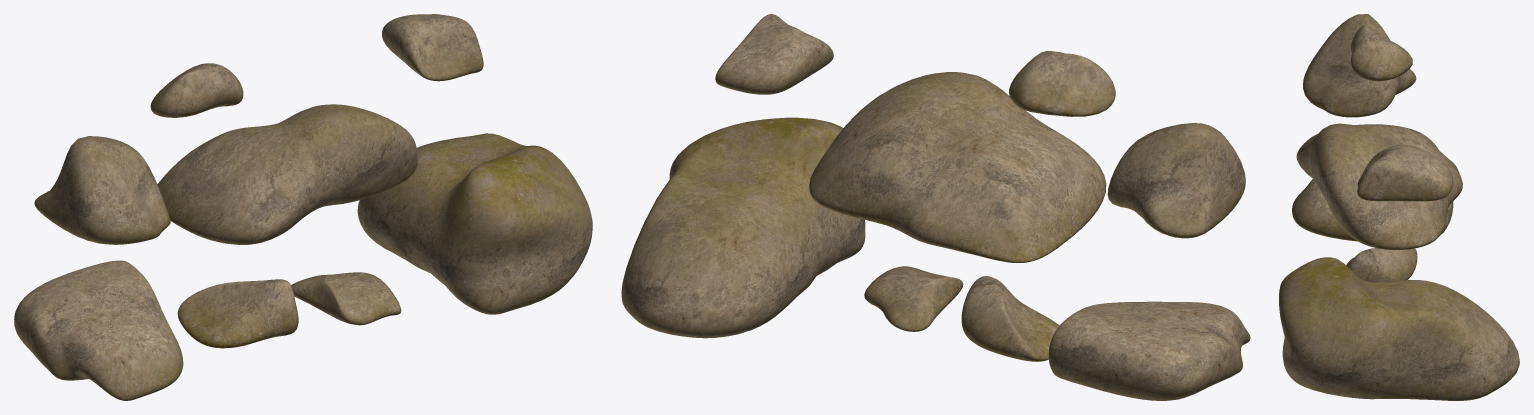
The picture shows the model from 3 angles, left to right: view 1: azimuth 30°, elevation 25°; view 2: azimuth 150°, elevation 25°; view 3: azimuth 270°, elevation 25°; orthographic projection. The views are drawn at different scales.
Parts seen in each view (by area): view 1: Rock.006_5, Rock.007_6, Rock.005_4, Rock_7, Rock.001_0, Rock.004_3, Rock.003_2, Rock.002_1; view 2: Rock.007_6, Rock.006_5, Rock.005_4, Rock_7, Rock.004_3, Rock.002_1, Rock.001_0, Rock.003_2; view 3: Rock.006_5, Rock.007_6, Rock_7, Rock.004_3, Rock.002_1, Rock.005_4, Rock.001_0.
Part boxes in pixels (left/top/right/bottom): Rock.006_5: left=357, top=133, right=592, bottom=314; Rock.007_6: left=157, top=104, right=417, bottom=244; Rock.005_4: left=14, top=260, right=183, bottom=400; Rock_7: left=34, top=136, right=170, bottom=244; Rock.001_0: left=177, top=279, right=298, bottom=348; Rock.004_3: left=382, top=14, right=483, bottom=81; Rock.003_2: left=291, top=272, right=401, bottom=325; Rock.002_1: left=150, top=63, right=243, bottom=117; Rock.007_6: left=809, top=72, right=1106, bottom=262; Rock.006_5: left=621, top=117, right=865, bottom=338; Rock.005_4: left=1048, top=301, right=1250, bottom=400; Rock_7: left=1107, top=123, right=1245, bottom=238; Rock.004_3: left=715, top=14, right=833, bottom=94; Rock.002_1: left=1009, top=51, right=1115, bottom=116; Rock.001_0: left=961, top=276, right=1059, bottom=361; Rock.003_2: left=864, top=266, right=963, bottom=331; Rock.006_5: left=1279, top=257, right=1519, bottom=400; Rock.007_6: left=1296, top=123, right=1462, bottom=249; Rock_7: left=1303, top=14, right=1416, bottom=117; Rock.004_3: left=1357, top=145, right=1453, bottom=201; Rock.002_1: left=1350, top=25, right=1412, bottom=81; Rock.005_4: left=1292, top=179, right=1453, bottom=241; Rock.001_0: left=1346, top=248, right=1417, bottom=282.
Bounding box in the file's own units: 6.99 × 3.53 × 3.29.
Materials: 1 (1 with a texture image).
